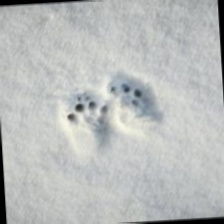cat: (65, 97, 111, 138)
